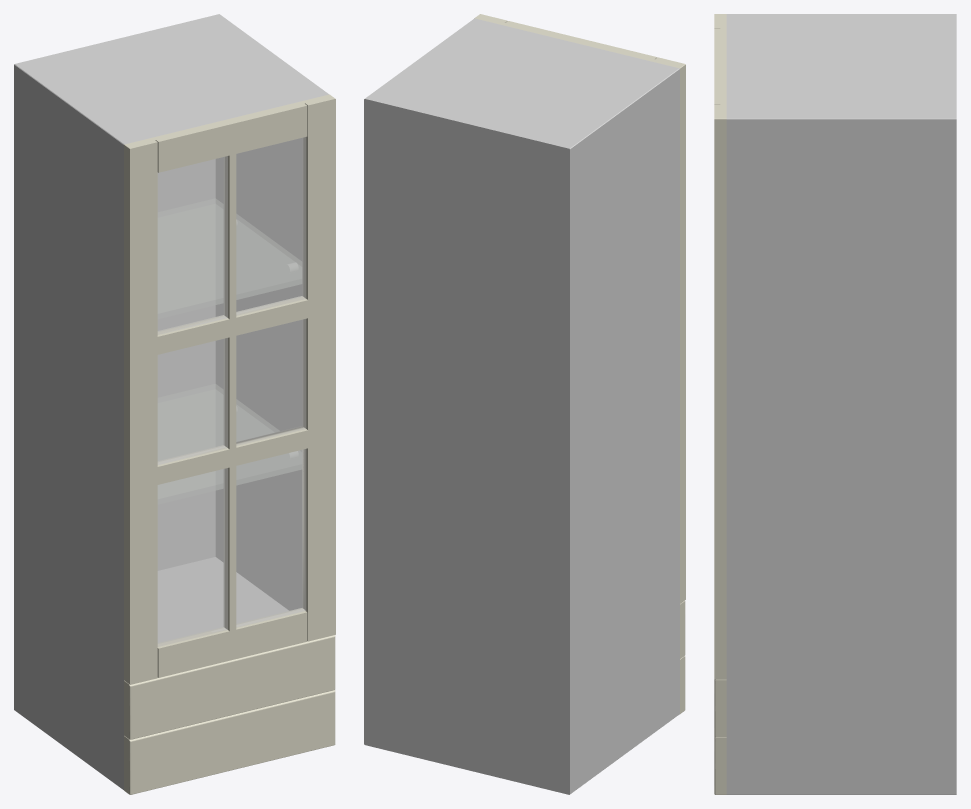
Rendered from METOD_Wall_Cab_Horizontal_with_2_Glass_Doors_White_Jutis_Frosted_Glass.obj.
The picture shows the model from 3 angles, left to right: view 1: azimuth 30°, elevation 25°; view 2: azimuth 150°, elevation 25°; view 3: azimuth 270°, elevation 25°; orthographic projection. The views are drawn at different scales.
Parts seen in each view (by area): view 1: Box001, Box036, Box033, 004, 1, Box032, Box034; view 2: Box001, Box033; view 3: Box001, Box033, 1, 004.
Boxes of the visible parts, x1,y1,x2,y2 form: Box001: [14, 14, 328, 789]; Box036: [157, 137, 306, 646]; Box033: [124, 94, 335, 684]; 004: [124, 690, 335, 794]; 1: [124, 635, 335, 739]; Box032: [158, 199, 301, 318]; Box034: [158, 384, 301, 503]; Box001: [364, 18, 679, 794]; Box033: [474, 14, 685, 603]; Box001: [726, 14, 956, 794]; Box033: [714, 14, 726, 679]; 1: [714, 679, 726, 737]; 004: [714, 737, 726, 794].
Bounding box in the file's own units: 400 × 1200 × 390.
